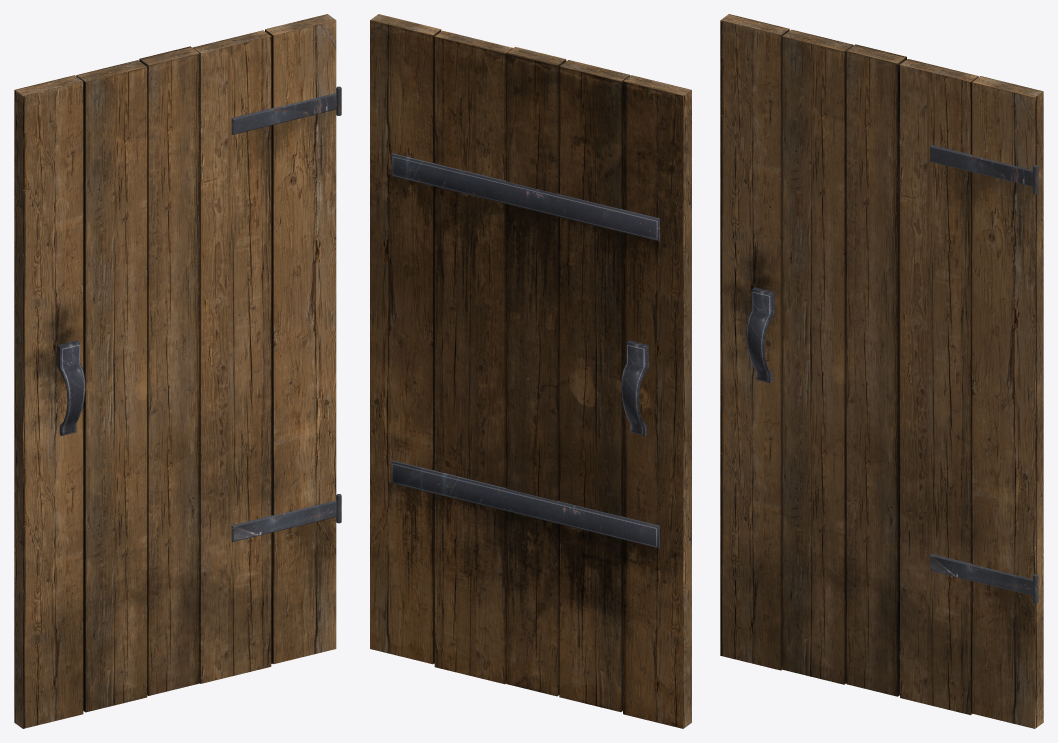
Rendered from door_01_LOD0.FBX.
3 views of the same model, side by side, from view 1: azimuth 30°, elevation 25°; view 2: azimuth 150°, elevation 25°; view 3: azimuth 330°, elevation 25° (orthographic).
Visible parts, largest first — view 1: door_01_LOD0, doorAttach_01_LOD0; view 2: door_01_LOD0; view 3: door_01_LOD0, doorAttach_01_LOD0.
Part boxes in pixels (bbox=[...]): door_01_LOD0: bbox=[14, 14, 336, 728]; doorAttach_01_LOD0: bbox=[231, 86, 341, 542]; door_01_LOD0: bbox=[370, 14, 691, 728]; door_01_LOD0: bbox=[720, 14, 1043, 728]; doorAttach_01_LOD0: bbox=[930, 145, 1038, 603].
Bounding box in the file's own units: 5.78 × 11.03 × 0.9081.
2 materials, 2 textured.
